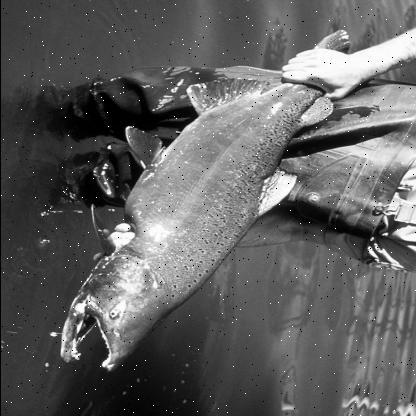fish: (58, 28, 359, 374)
